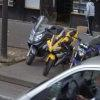Motorcycle: (26, 11, 75, 80)
